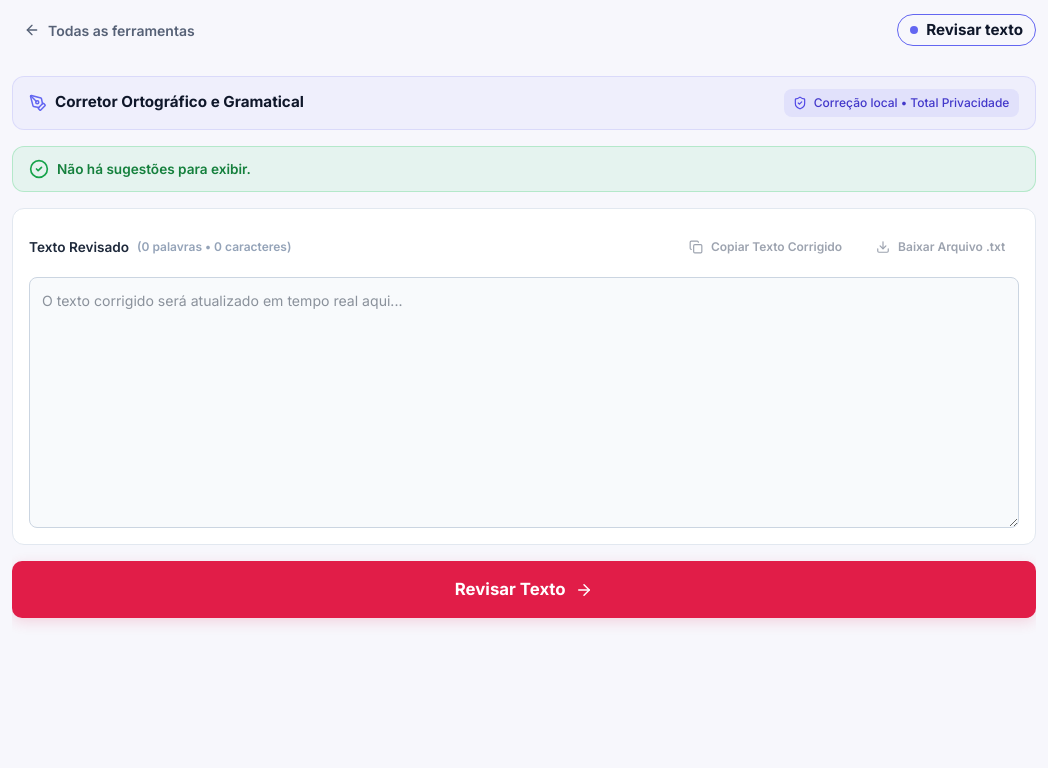
Test: Revisão interativa no website › aguarda confirmação das sugestões (arquivo: true)
The image size is (1048, 768).
Click the button "Revisar Texto" at (524, 590), box [12,561,1036,618]
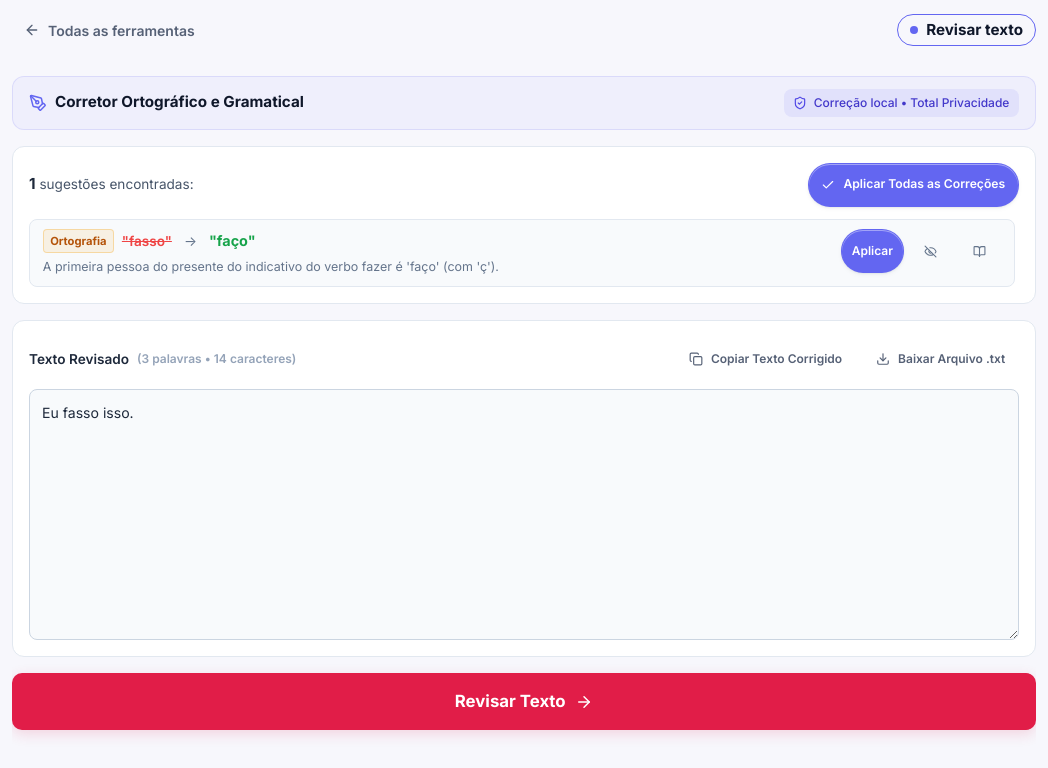
Expected: the text box holds "Eu fasso isso.", [29,389,1019,640]
Click the button "Aplicar Todas as Correções" at (913, 185), box [808,163,1019,207]
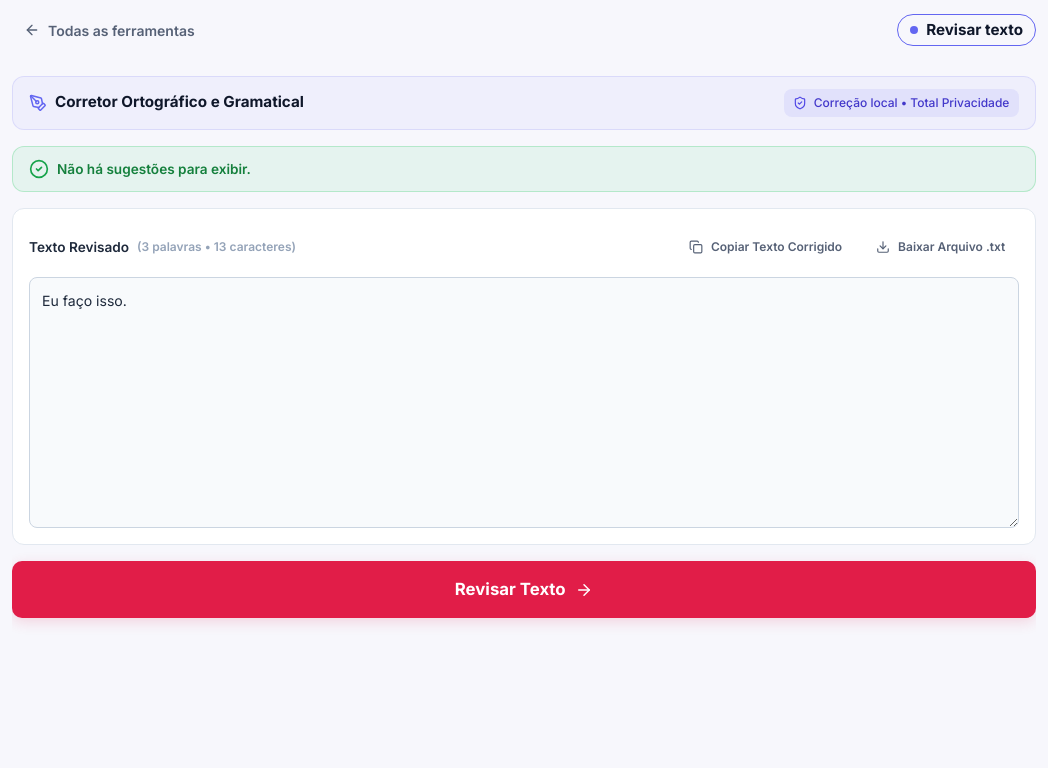
Expected: the text box holds "Eu faço isso.", [29,277,1019,528]
Expected: the button "Aplicar Todas as Correções" is gone
